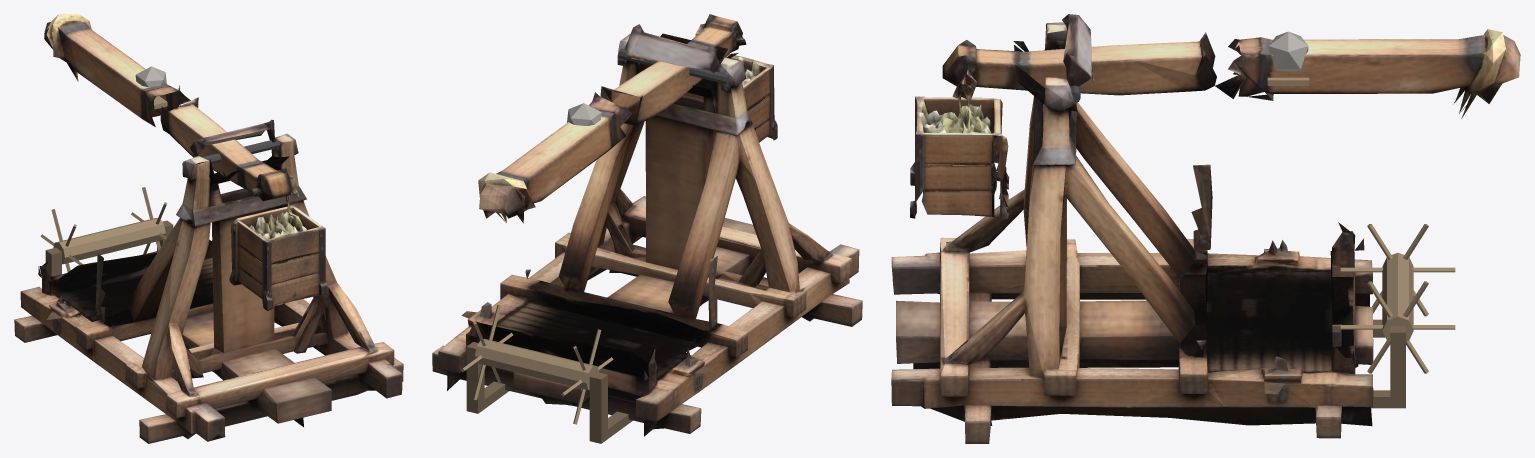
File: ga3_trebuchet.glb
The picture shows the model from 3 angles, left to right: view 1: azimuth 30°, elevation 25°; view 2: azimuth 150°, elevation 25°; view 3: azimuth 270°, elevation 25°; orthographic projection. The views are drawn at different scales.
Visible parts, largest first — view 1: Frame, ArmBeam, CounterweightBox, Winch, WinchFrame, Stone, Axle; view 2: Frame, ArmBeam, Winch, WinchFrame, CounterweightBox, Stone, Axle; view 3: Frame, ArmBeam, CounterweightBox, Winch, WinchFrame, Stone.
Part boxes in pixels (box(x1,y1,x2,y2)): Frame: box(14, 119, 403, 443); ArmBeam: box(44, 14, 299, 201); CounterweightBox: box(229, 195, 327, 310); Winch: box(40, 187, 167, 271); WinchFrame: box(45, 220, 173, 276); Stone: box(135, 66, 166, 87); Axle: box(183, 140, 280, 163); Frame: box(432, 24, 862, 436); ArmBeam: box(478, 14, 746, 223); Winch: box(461, 305, 613, 424); WinchFrame: box(466, 342, 632, 443); CounterweightBox: box(684, 54, 777, 142); Stone: box(567, 103, 601, 125); Axle: box(618, 48, 729, 84); Frame: box(891, 14, 1373, 443); ArmBeam: box(942, 29, 1520, 118); CounterweightBox: box(910, 77, 1009, 218); Winch: box(1340, 224, 1455, 373); WinchFrame: box(1332, 319, 1405, 408); Stone: box(1268, 31, 1308, 70).
Size of the model in its own units: 7.35 by 7.17 by 12.06.
Materials: 7 (1 with a texture image).
